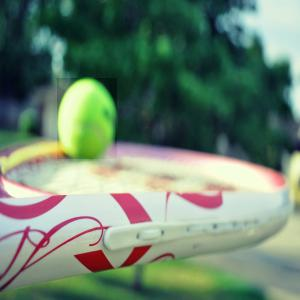TennisBall: (58, 79, 119, 161)
